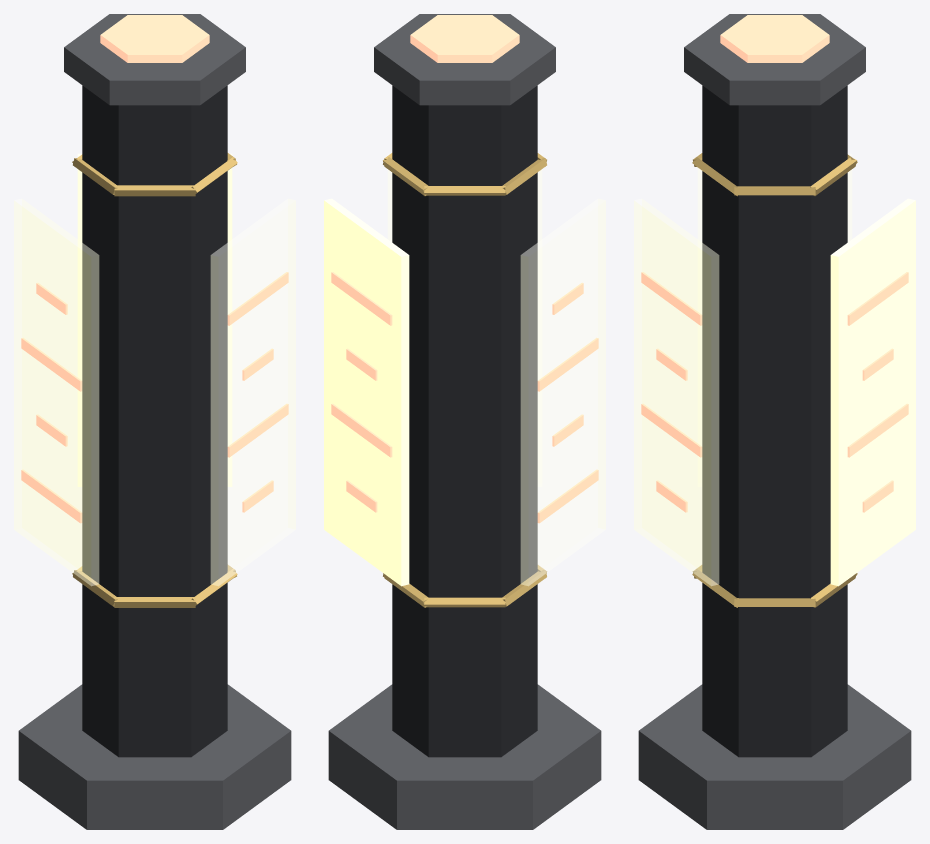
Rendered from Prop_Aegis_HoloAdPillar.fbx.
3 renders of one model, left to right at view 1: azimuth 30°, elevation 25°; view 2: azimuth 150°, elevation 25°; view 3: azimuth 270°, elevation 25°, orthographic.
Visible parts, largest first — view 1: PHA_Pillar, PHA_Screen1, PHA_Screen2, PHA_Foot, PHA_Cap, PHA_Logo, PHA_Screen0, PHA_RingB, PHA_RingA, PHA_Line10, PHA_Line21, PHA_Line12 (+1 smaller); view 2: PHA_Pillar, PHA_Screen0, PHA_Screen1, PHA_Foot, PHA_Cap, PHA_Logo, PHA_RingB, PHA_RingA, PHA_Screen2, PHA_Line10, PHA_Line12, PHA_Line01 (+1 smaller); view 3: PHA_Pillar, PHA_Screen0, PHA_Screen2, PHA_Foot, PHA_Cap, PHA_Logo, PHA_RingB, PHA_RingA, PHA_Screen1, PHA_Line21, PHA_Line23, PHA_Line01 (+1 smaller).
Part boxes in pixels (x1,y1,x2,y2): PHA_Pillar: (82, 85, 227, 757); PHA_Screen1: (14, 199, 98, 585); PHA_Screen2: (211, 199, 295, 585); PHA_Foot: (18, 684, 291, 829); PHA_Cap: (64, 14, 245, 105); PHA_Logo: (100, 15, 209, 62); PHA_Screen0: (77, 153, 232, 486); PHA_RingB: (72, 153, 237, 196); PHA_RingA: (72, 565, 237, 607); PHA_Line10: (21, 469, 82, 523); PHA_Line21: (227, 403, 288, 457); PHA_Line12: (21, 337, 82, 391); PHA_Pillar: (392, 85, 537, 757); PHA_Screen0: (324, 198, 409, 586); PHA_Screen1: (521, 199, 605, 585); PHA_Foot: (328, 684, 601, 829); PHA_Cap: (374, 14, 555, 105); PHA_Logo: (410, 15, 519, 62); PHA_RingB: (383, 153, 546, 195); PHA_RingA: (383, 565, 546, 607); PHA_Screen2: (388, 154, 541, 486); PHA_Line10: (537, 469, 598, 523); PHA_Line12: (537, 337, 598, 391); PHA_Line01: (331, 403, 392, 457); PHA_Pillar: (702, 85, 847, 757); PHA_Screen0: (830, 198, 915, 586); PHA_Screen2: (634, 199, 718, 585); PHA_Foot: (638, 684, 911, 829); PHA_Cap: (684, 14, 865, 105); PHA_Logo: (720, 15, 829, 62); PHA_RingB: (692, 153, 857, 196); PHA_RingA: (692, 565, 857, 607); PHA_Screen1: (698, 154, 851, 486); PHA_Line21: (641, 403, 702, 457); PHA_Line23: (641, 272, 702, 325); PHA_Line01: (847, 403, 908, 457).
Size of the model in its own units: 0.5417 by 1.81 by 0.6203.
